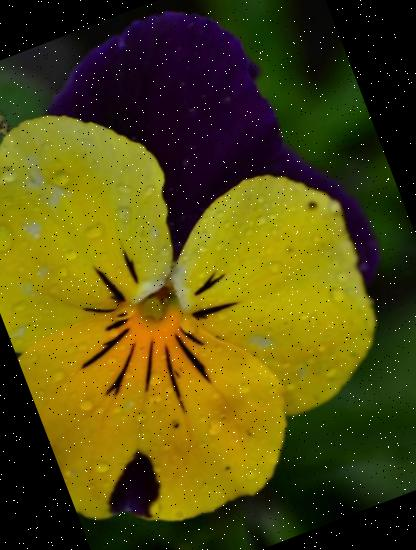Cauliflower: (0, 92, 18, 160)
